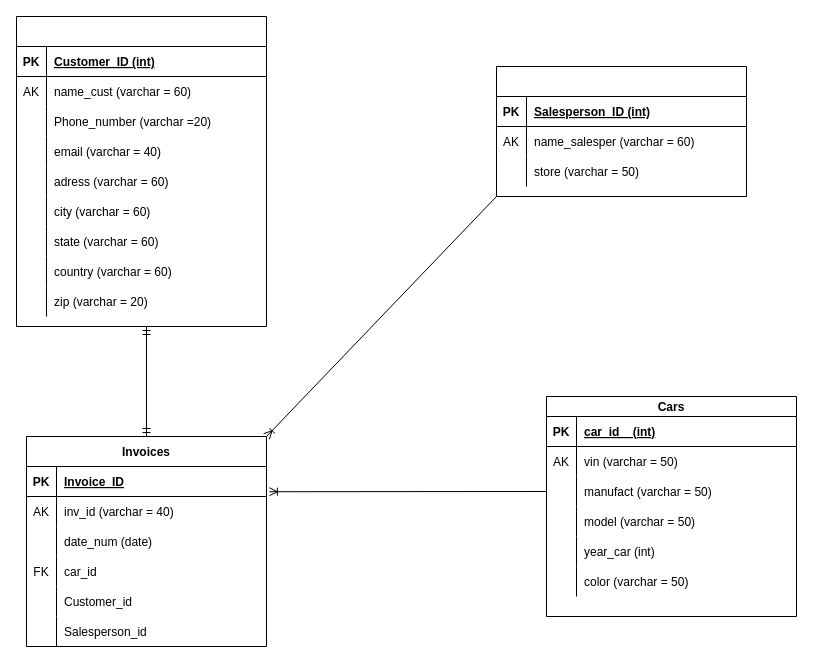
Image size: 813x663. Some labels were removed from this diagram. The box of each missing label's shape, as (x1, y1, x2, y2) in pixels:
Customers: (16, 16, 266, 326)
Salespersons: (496, 66, 746, 196)
